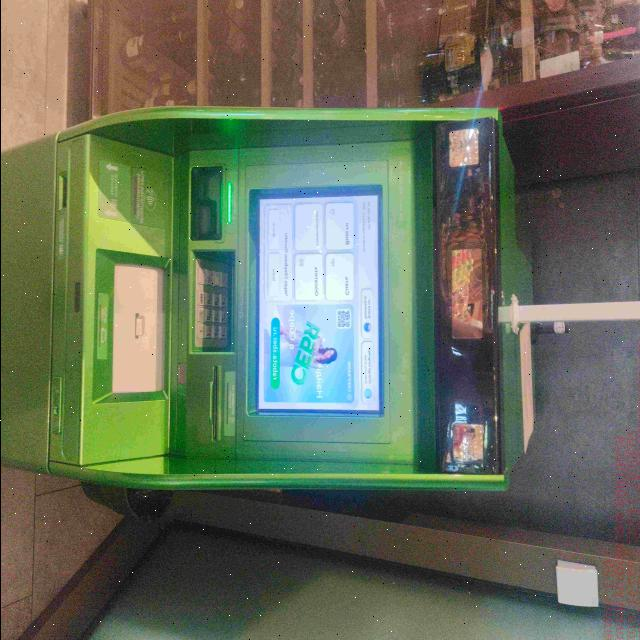bank: (0, 106, 522, 493)
